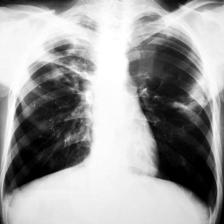tuberculosis: (0, 11, 224, 224)
